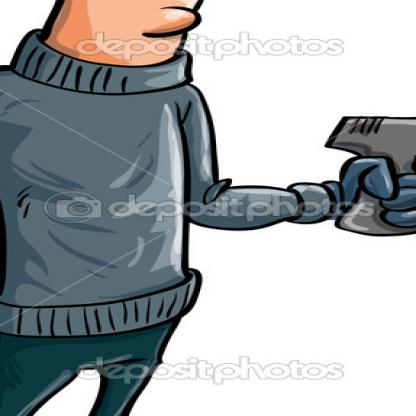gun: (308, 102, 414, 244)
